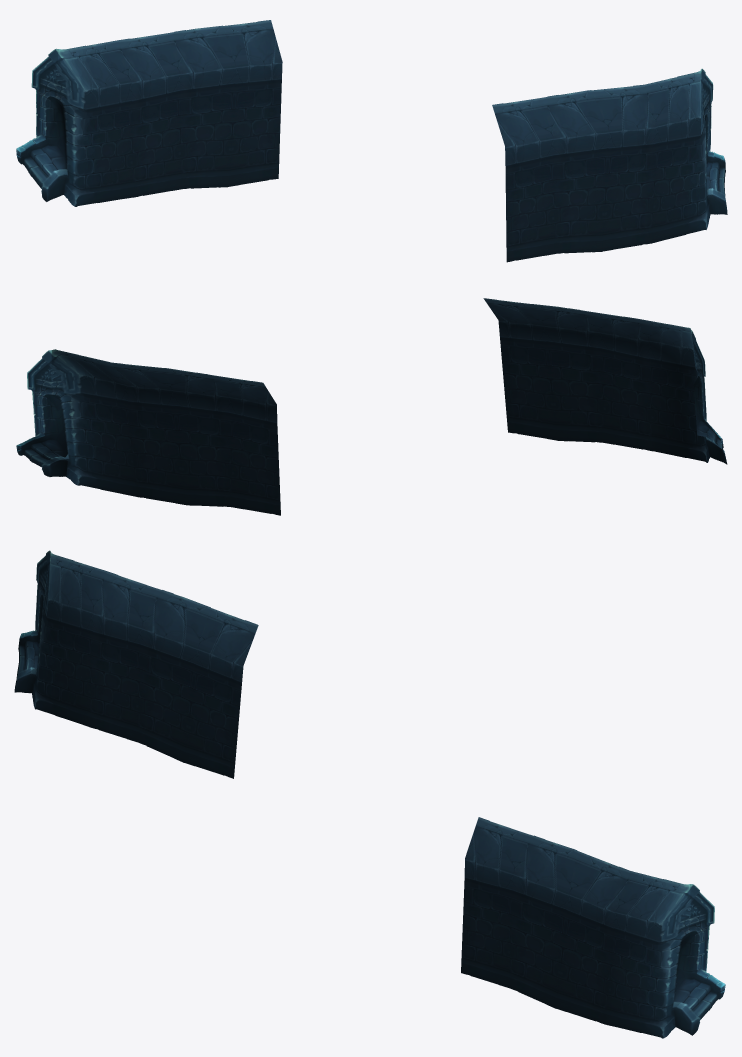
Rendered from Dark Forest Crypt B.FBX.
3 views of the same model, one above another, from view 1: azimuth 30°, elevation 25°; view 2: azimuth 150°, elevation 25°; view 3: azimuth 330°, elevation 25° (orthographic).
Parts seen in each view (by area): view 1: Crypt Entrance B; view 2: Crypt Entrance B; view 3: Crypt Entrance B.
Part boxes in pixels (x1,y1,x2,y2): Crypt Entrance B: (16, 20, 727, 262); Crypt Entrance B: (16, 298, 727, 515); Crypt Entrance B: (14, 550, 725, 1038).
Bounding box in the file's own units: 3111 × 198 × 1388.
